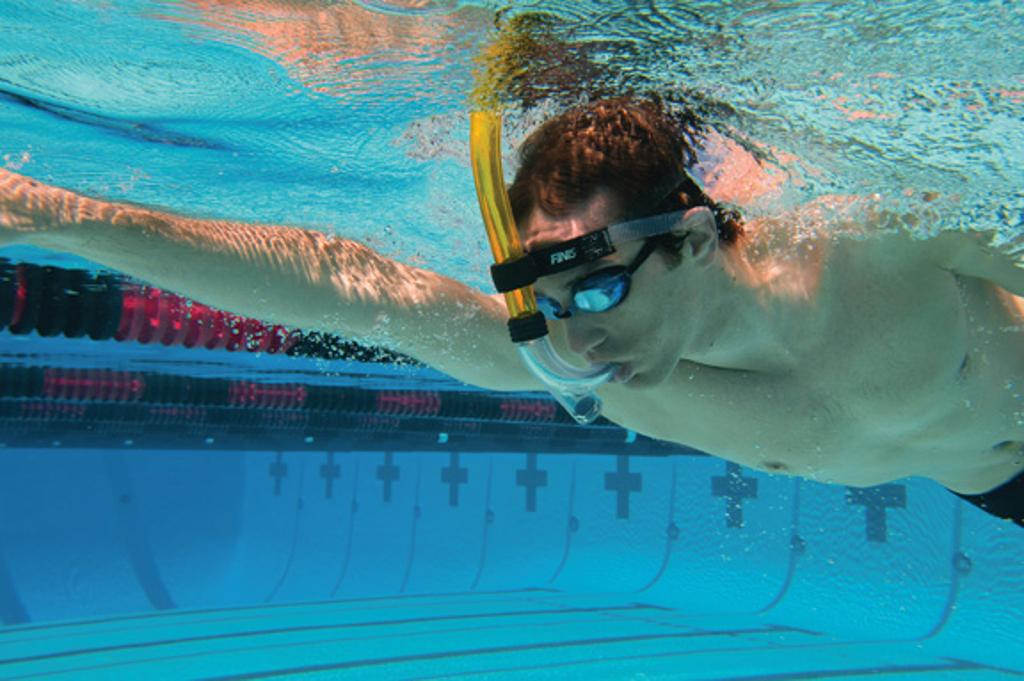face: (526, 206, 678, 386)
